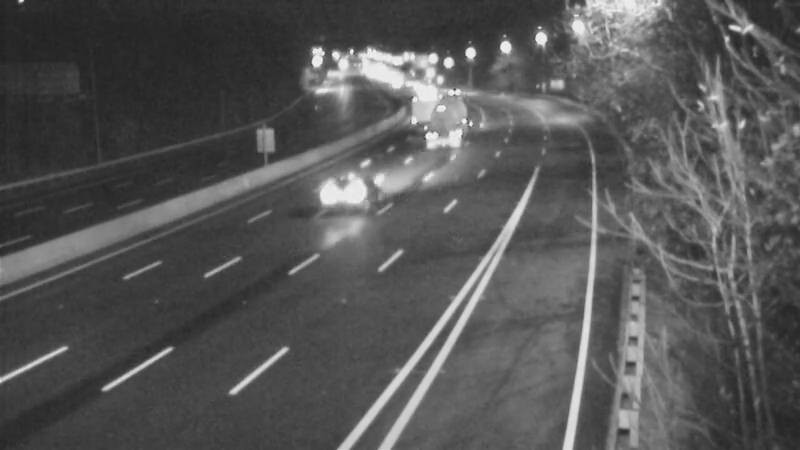vehicle: (315, 147, 395, 227), (429, 69, 479, 119), (402, 67, 452, 117), (422, 92, 472, 142), (396, 80, 446, 130)
